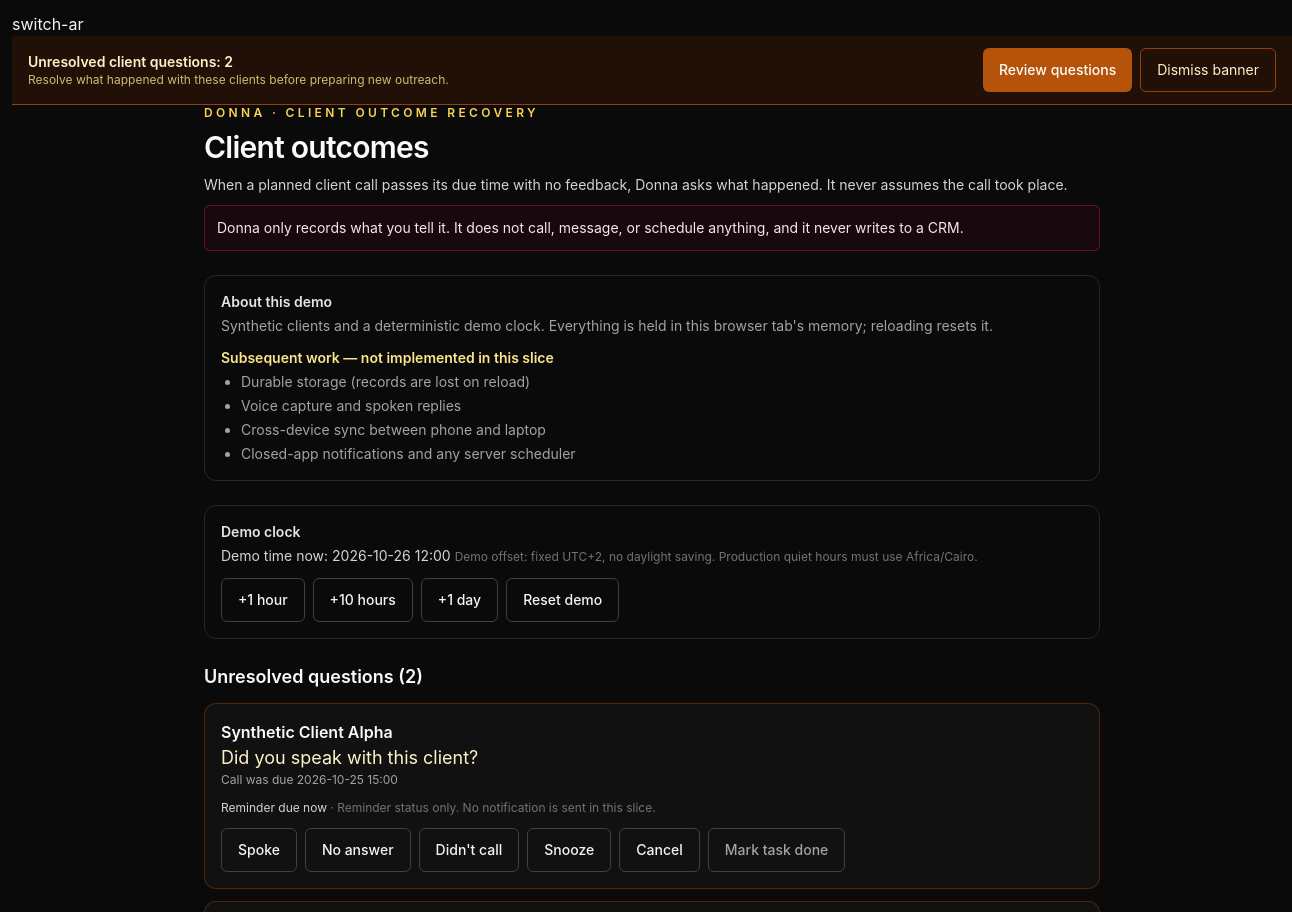
it: Donna inbox (English) › dismissing the banner does not resolve any question
This screenshot has width=1292, height=912.
Click the button "Dismiss banner": (1208, 70) x1=1140 y1=48 x2=1276 y2=92
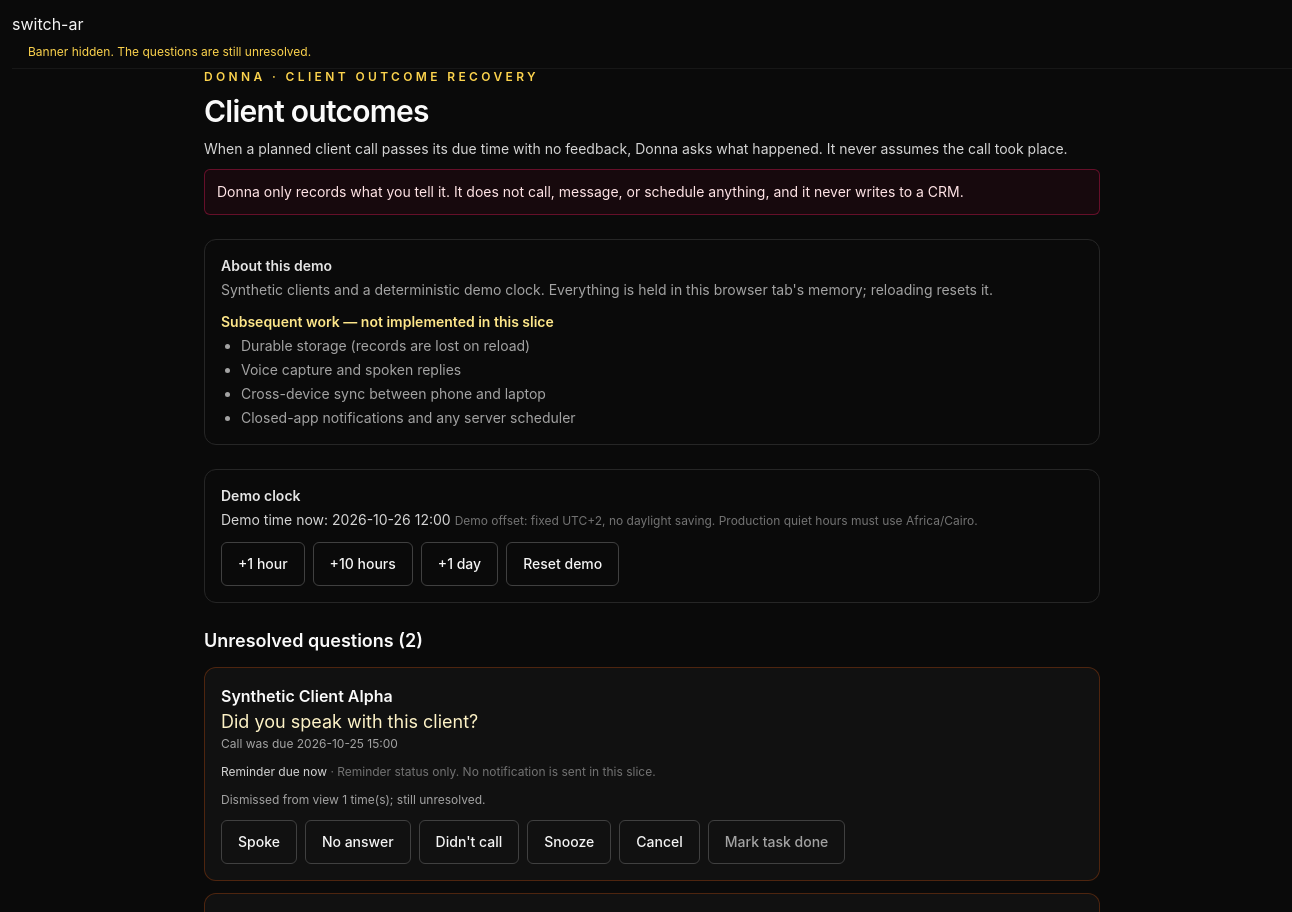
Expected: the element with test id "donna-banner" is gone
Expected: the text with test id "donna-banner-dismissed" shows "still unresolved", x1=28 y1=44 x2=311 y2=59
Expected: the text "Dismissed from view 1 time(s); still unresolved." is shown, x1=221 y1=792 x2=486 y2=807
